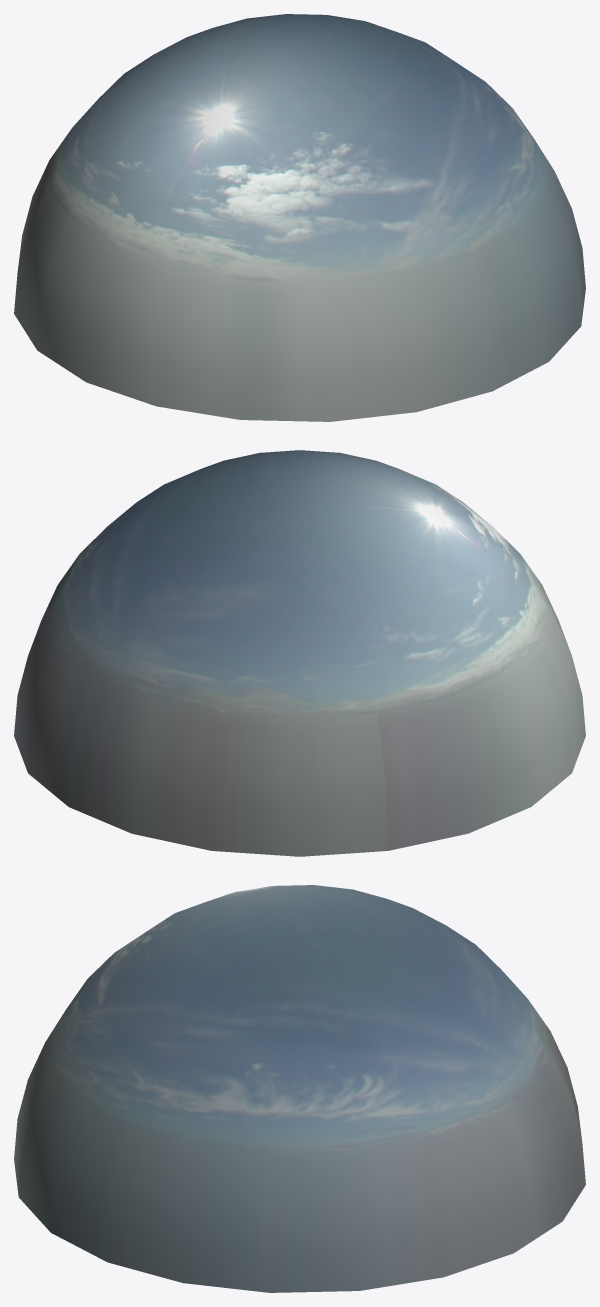
File: skydome-finallambert.dae
3 renders of one model, top to bottom at view 1: azimuth 30°, elevation 25°; view 2: azimuth 150°, elevation 25°; view 3: azimuth 270°, elevation 25°, orthographic.
Parts seen in each view (by area): view 1: pSphere1; view 2: pSphere1; view 3: pSphere1.
Part boxes in pixels (box(x1,y1,x2,y2)): pSphere1: box(14, 14, 585, 421); pSphere1: box(14, 450, 585, 856); pSphere1: box(14, 885, 585, 1292).
Size of the model in its own units: 8575 by 4311 by 8575.
1 material, 1 textured.
